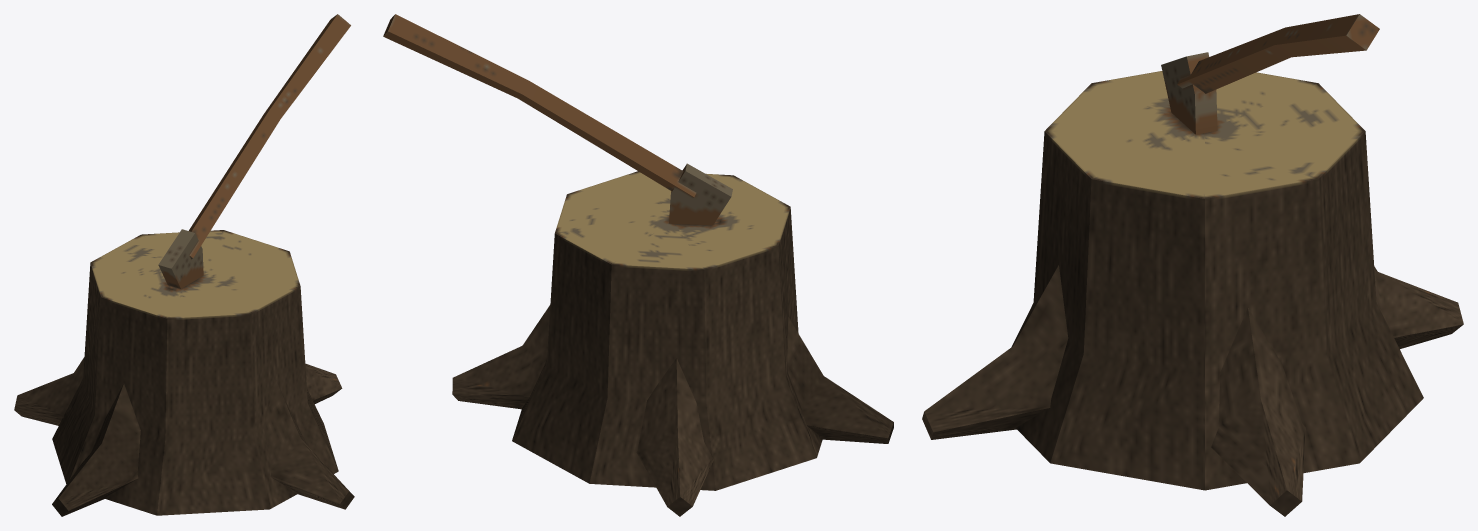
File: Stump_Axe_01.obj
3 views of the same model, side by side, from view 1: azimuth 30°, elevation 25°; view 2: azimuth 150°, elevation 25°; view 3: azimuth 270°, elevation 25° (orthographic). The views are drawn at different scales.
Parts seen in each view (by area): view 1: Stump_Axe_01; view 2: Stump_Axe_01; view 3: Stump_Axe_01.
Boxes of the visible parts, left/top/right/bottom form: Stump_Axe_01: left=14, top=14, right=354, bottom=516; Stump_Axe_01: left=383, top=14, right=893, bottom=516; Stump_Axe_01: left=922, top=14, right=1463, bottom=516.
Size of the model in its own units: 0.9032 by 0.8323 by 0.7731.
Materials: 1 (1 with a texture image).
